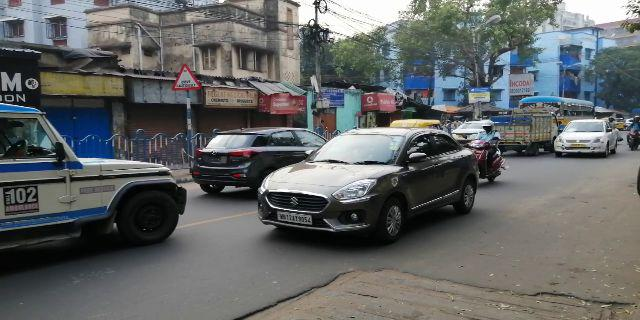Car: (1, 104, 182, 242), (259, 131, 477, 241), (186, 123, 323, 193), (550, 118, 618, 157)
Minitruck: (498, 112, 546, 151)
